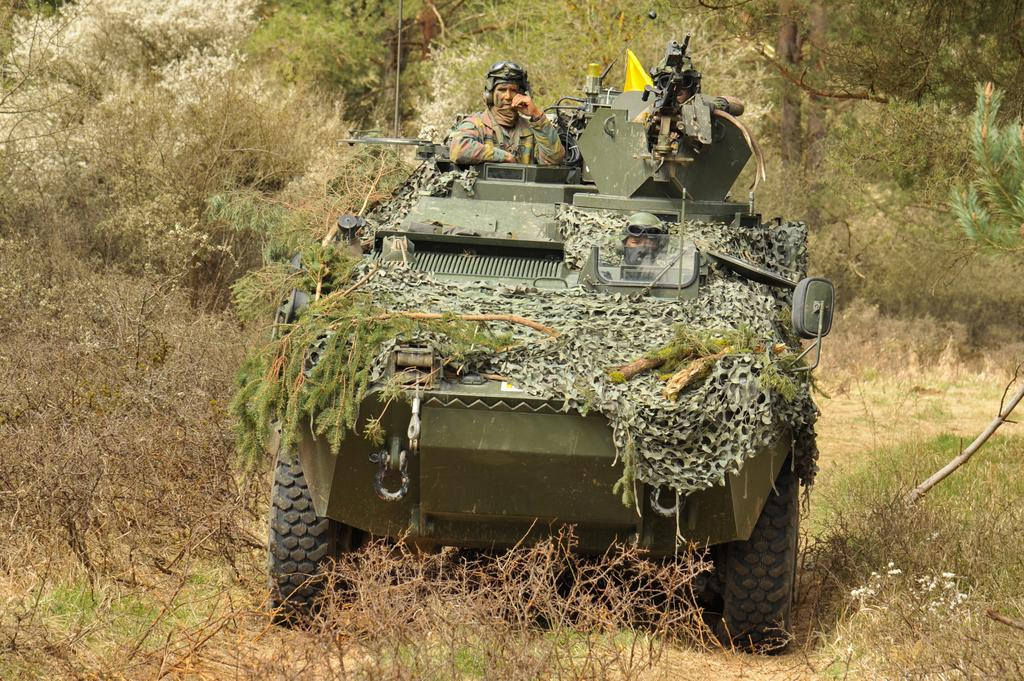Tank: (273, 0, 836, 652)
